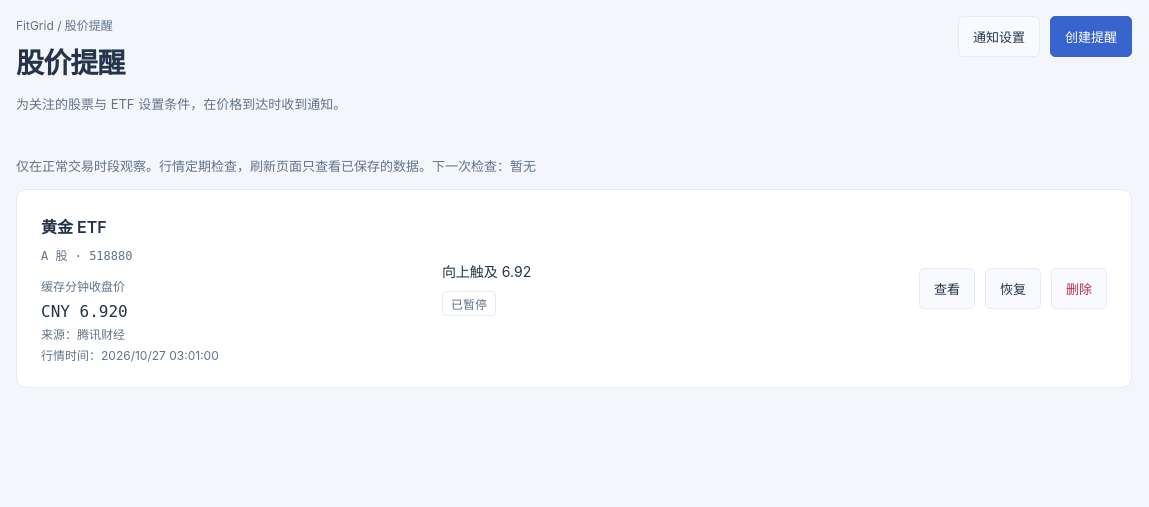
resumes with the latest version and exposes channel-not-ready errors
Click the button "恢复" at {"x": 1013, "y": 288}, box [985, 268, 1041, 309]
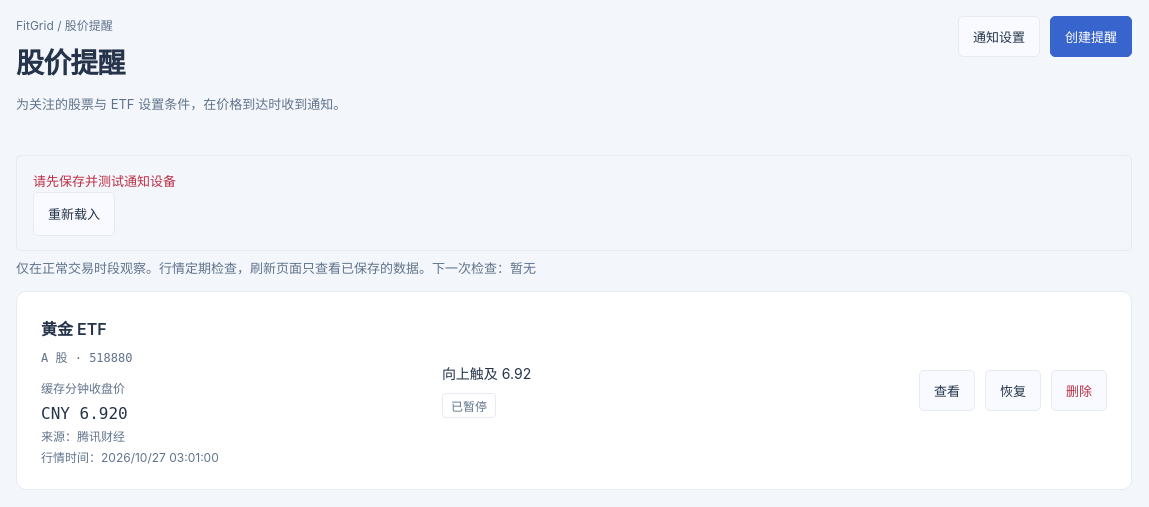
Expected: the message shows "请先保存并测试通知设备", [33, 173, 176, 189]
